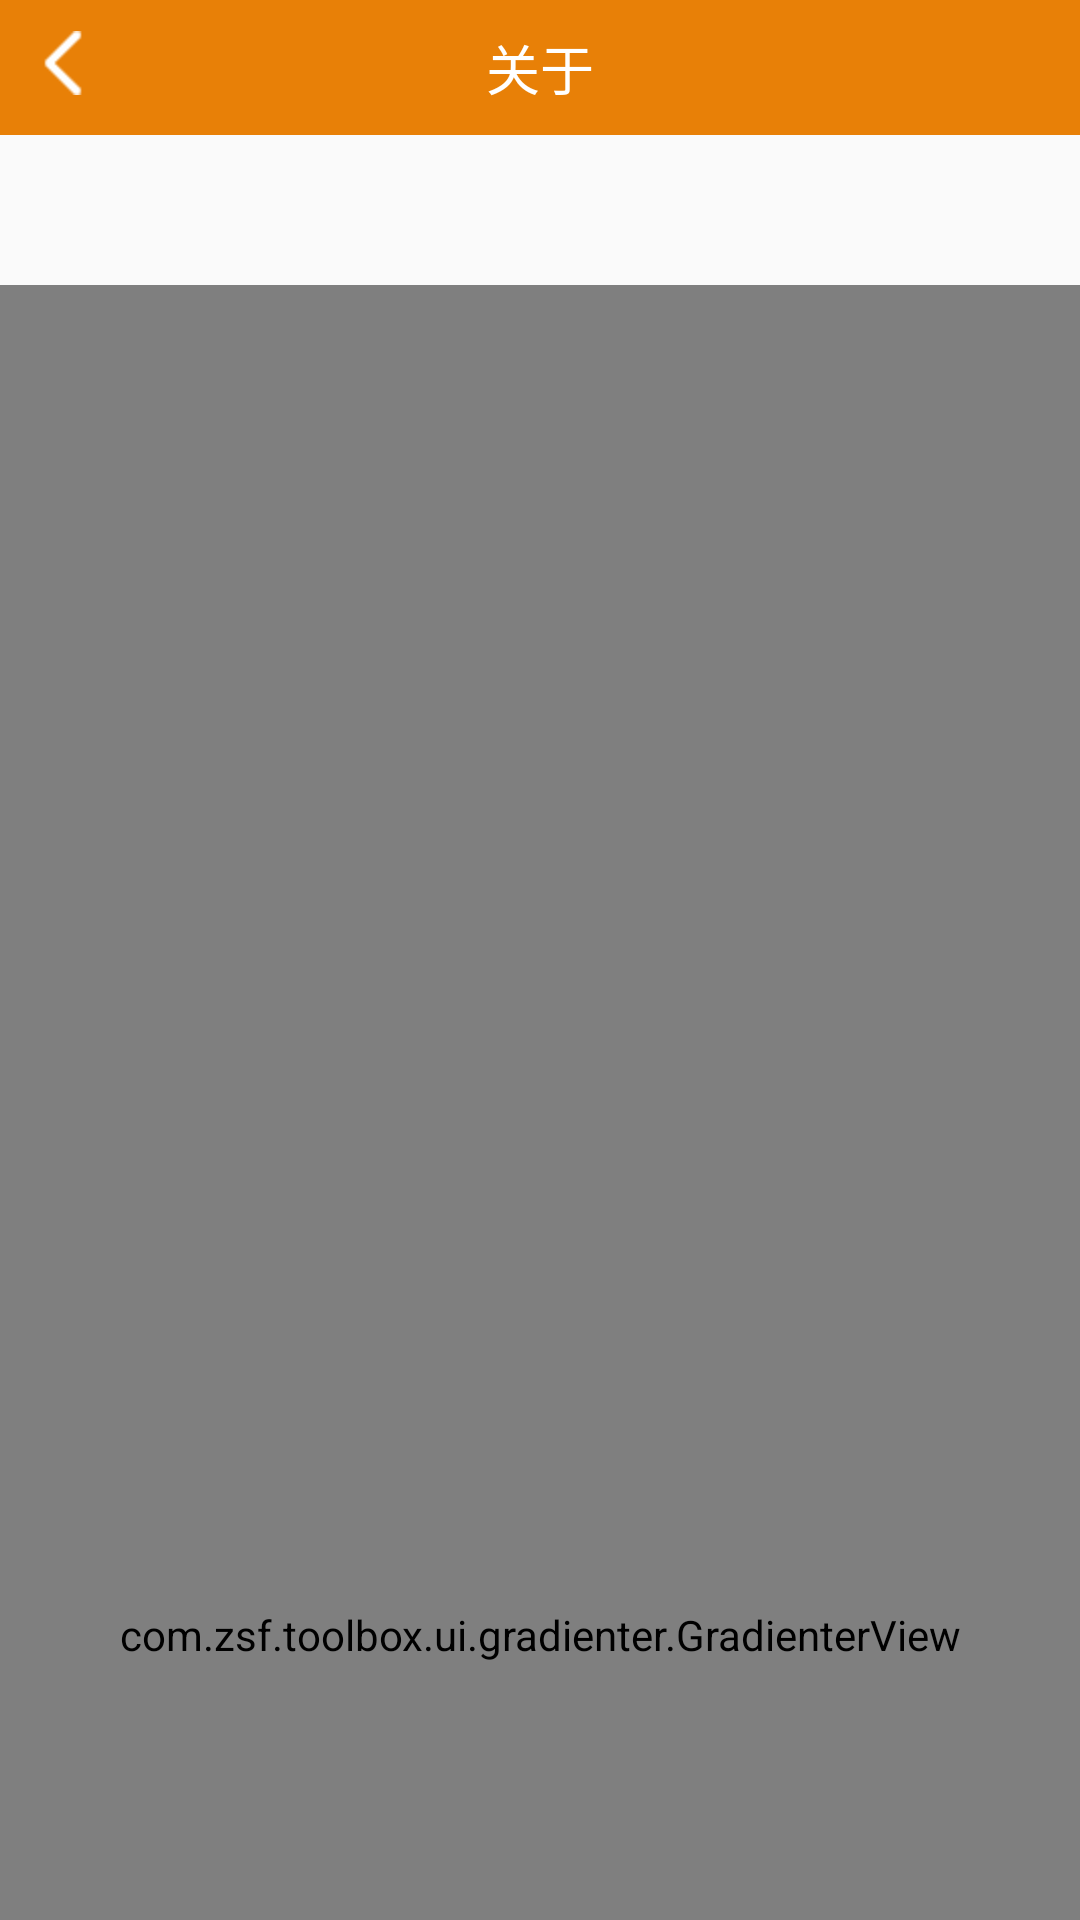

Named icons in this screenshot (1080x1920) and their centers, [x,y]:
back: [63,63]
